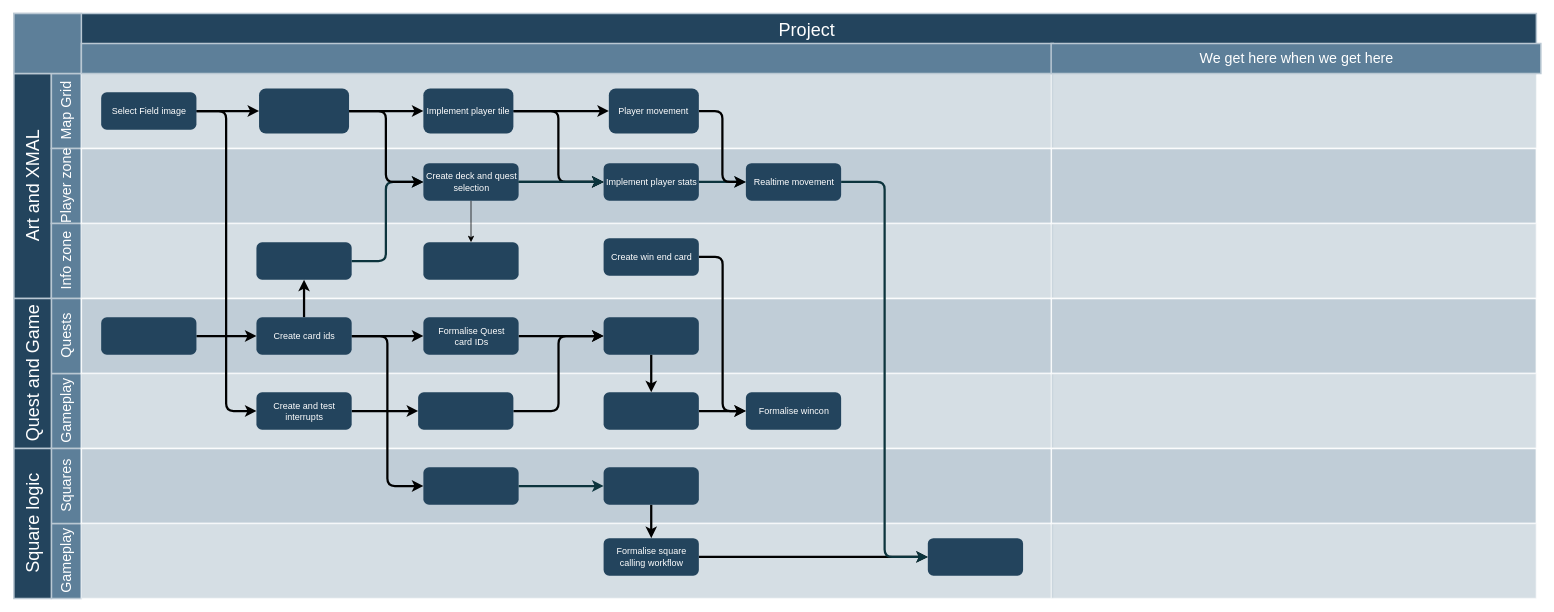
This 1554x612 diagram has some shape labels left out. The box of each missing label's shape, as (x1, y1, x2, y2) in pixels:
Card Abstract Class: (101, 317, 196, 354)
Configure and test tap gesture: (259, 88, 349, 133)
Create card descriptor: (423, 242, 518, 279)
Create ID selection: (256, 242, 351, 279)
Create interrupt singleton: (418, 392, 513, 429)
Foreseeable: (80, 42, 1054, 74)
Formalise quest abstract class: (603, 317, 698, 354)
Formalise quest checking: (603, 392, 698, 429)
Formalise square abstract class: (603, 467, 698, 504)
Formalise square card IDs: (423, 467, 518, 504)
Formalise square chaining workflow: (927, 538, 1023, 575)
v 1.0: (13, 12, 82, 74)
